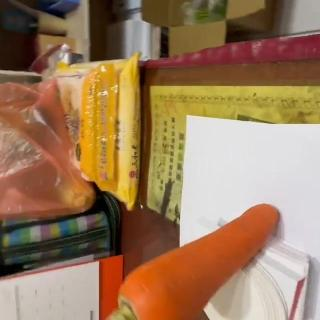carrot: (105, 201, 281, 320)
